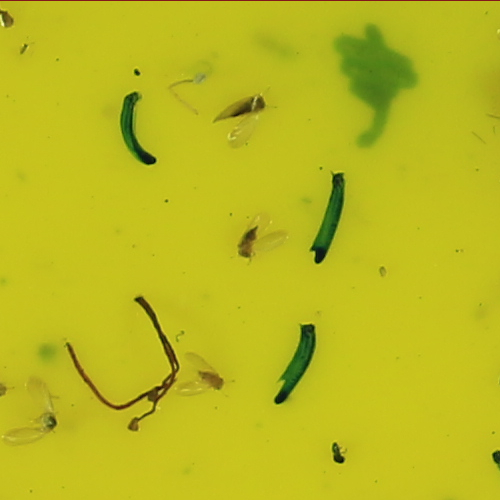psylla: (229, 93, 268, 119), (236, 224, 261, 256), (197, 370, 224, 391)
